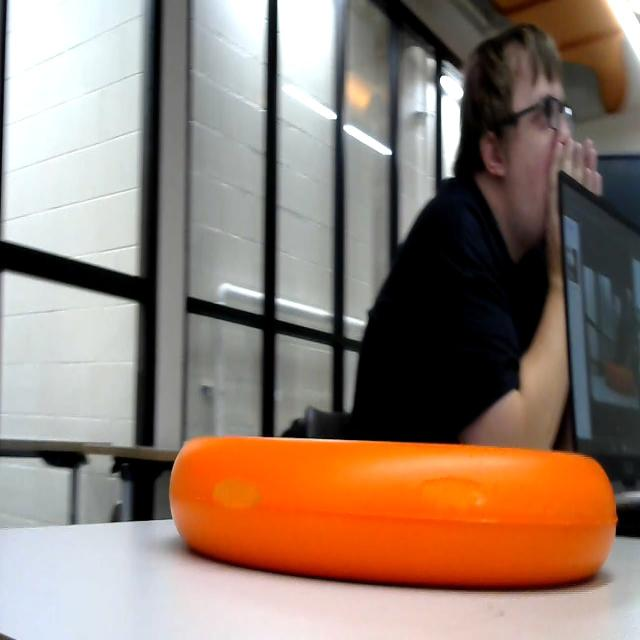note: (169, 436, 622, 596)
